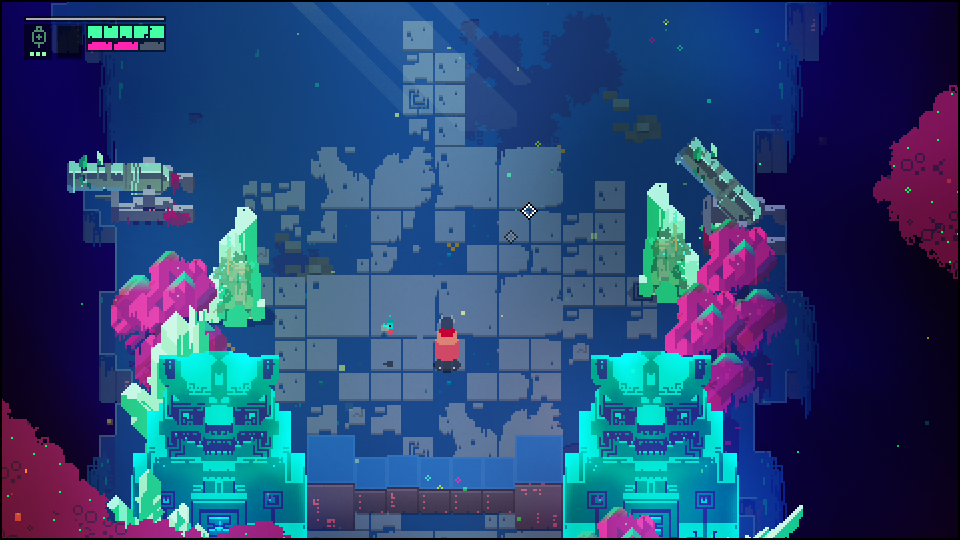player: (431, 313, 459, 372)
